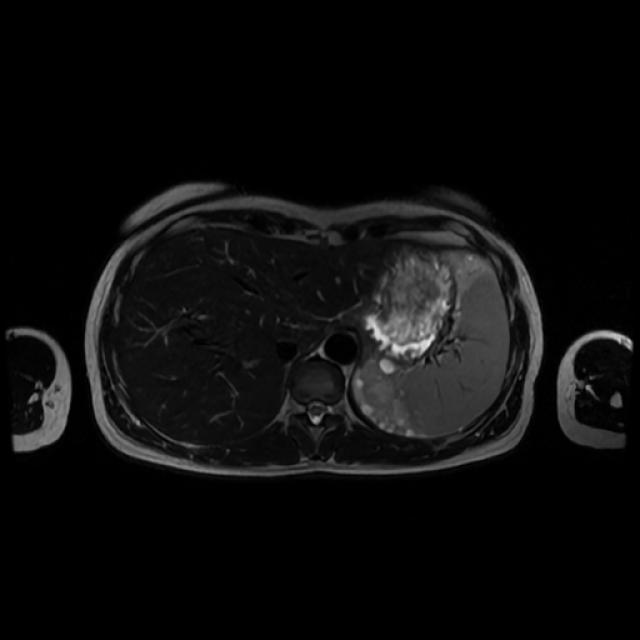sol: (356, 360, 421, 438)
